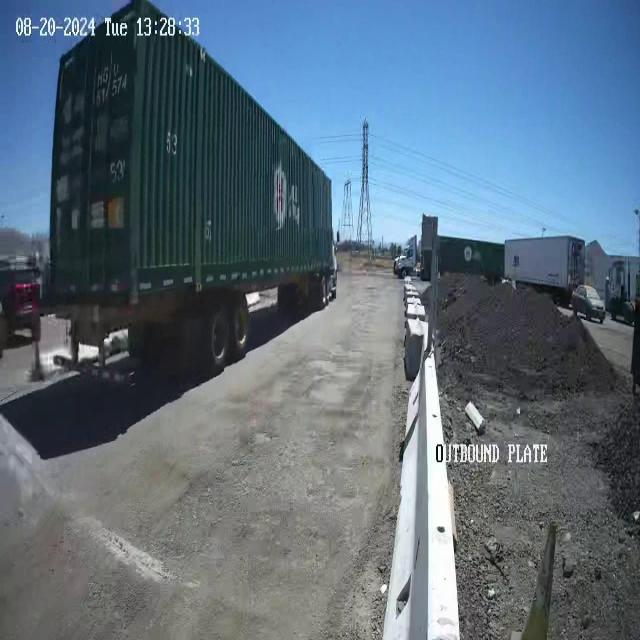TRUCK_IN: (43, 1, 337, 376)
